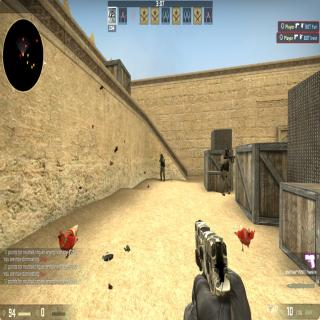CT-Body: (221, 147, 231, 195), (159, 153, 165, 182)
CT-Head: (224, 146, 230, 158), (160, 153, 163, 159)
